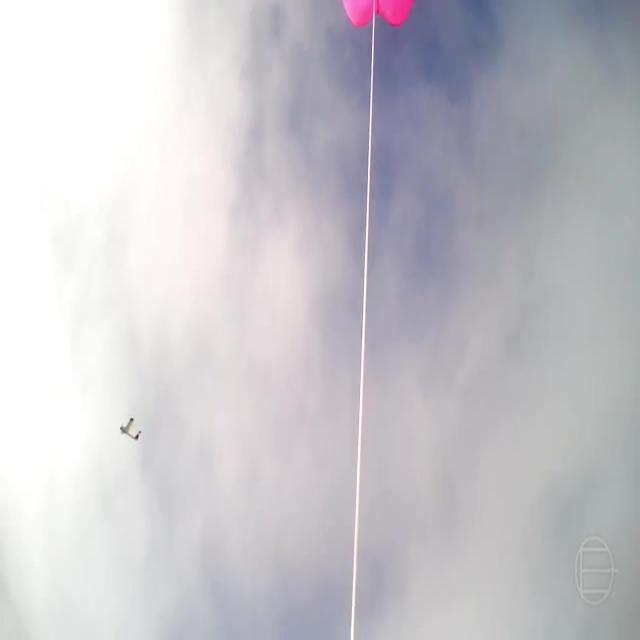iha: (118, 415, 143, 442)
